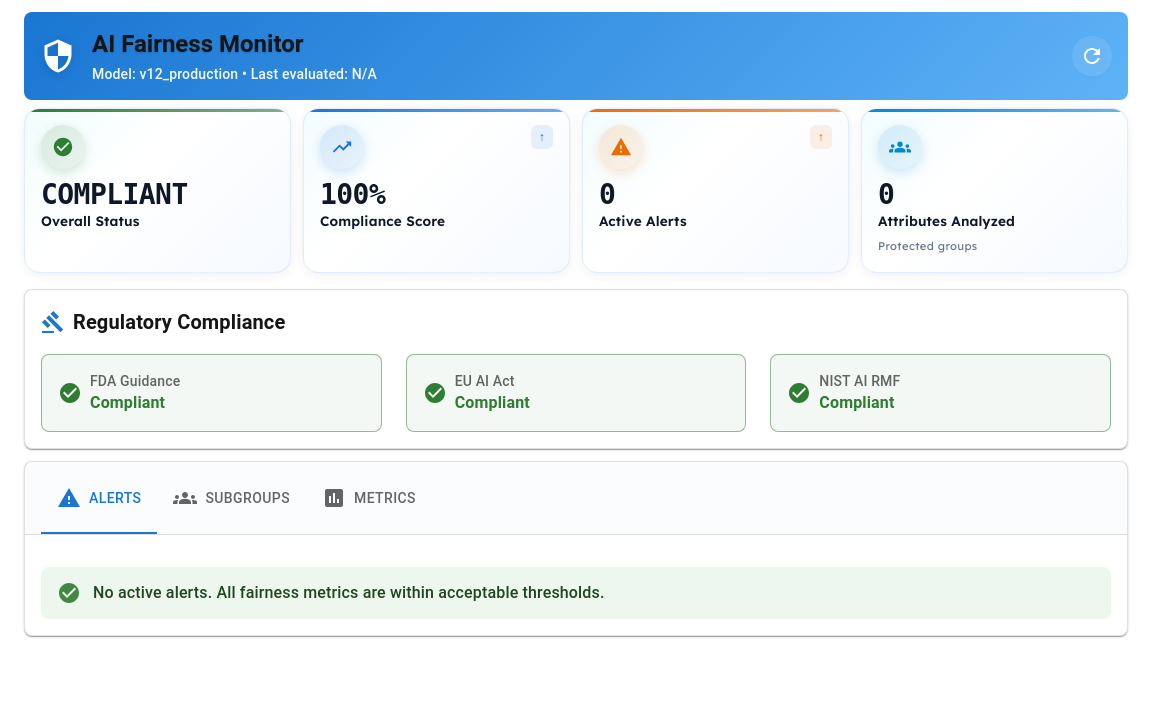
FairnessDashboard — Empty Subgroups/Metrics › shows empty-state message when Subgroups tab has no attributes
Expected: the heading "AI Fairness Monitor" is shown, [92,30,304,58]
Step 1. Click the tab "Subgroups" → (232, 498), box [158,462,306,534]
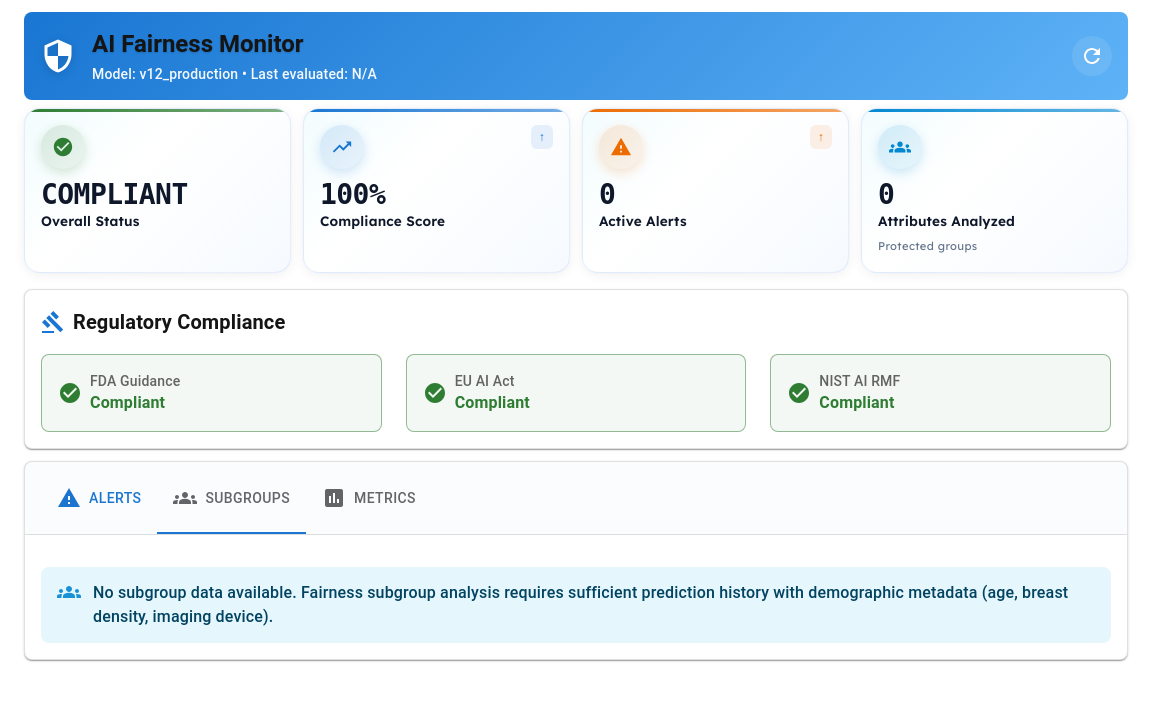
Now the text "No subgroup data" is shown, box [93,584,1068,626]
